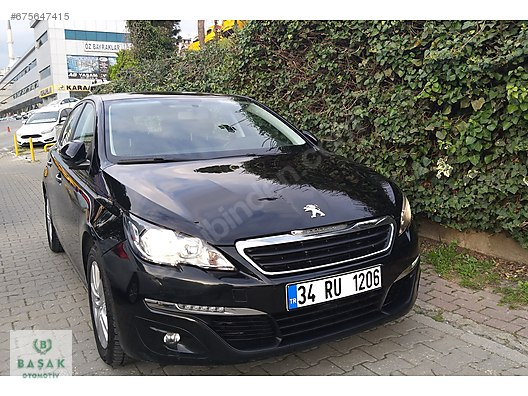peugeot: (33, 78, 436, 368)
